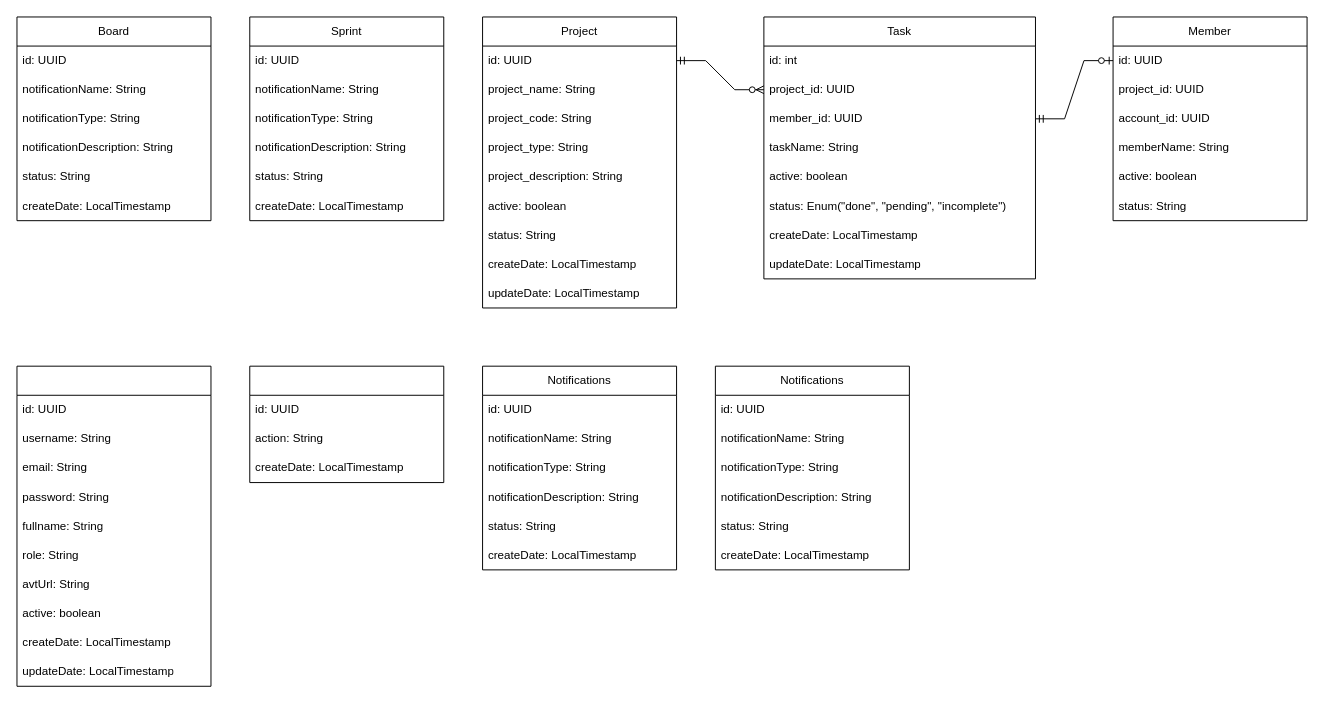
Image size: 1324x703. Some labels were removed from this diagram. Here are the shapes that lost their labels. From the top down, the box of each, then its label:
(249, 365, 444, 483): Activity_Log
(16, 365, 211, 686): Account
